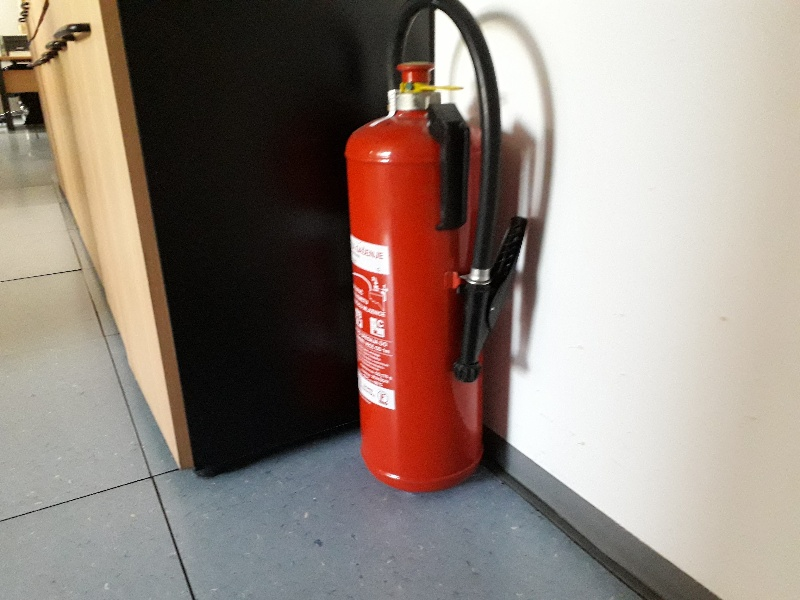vataparat: (342, 1, 527, 492)
